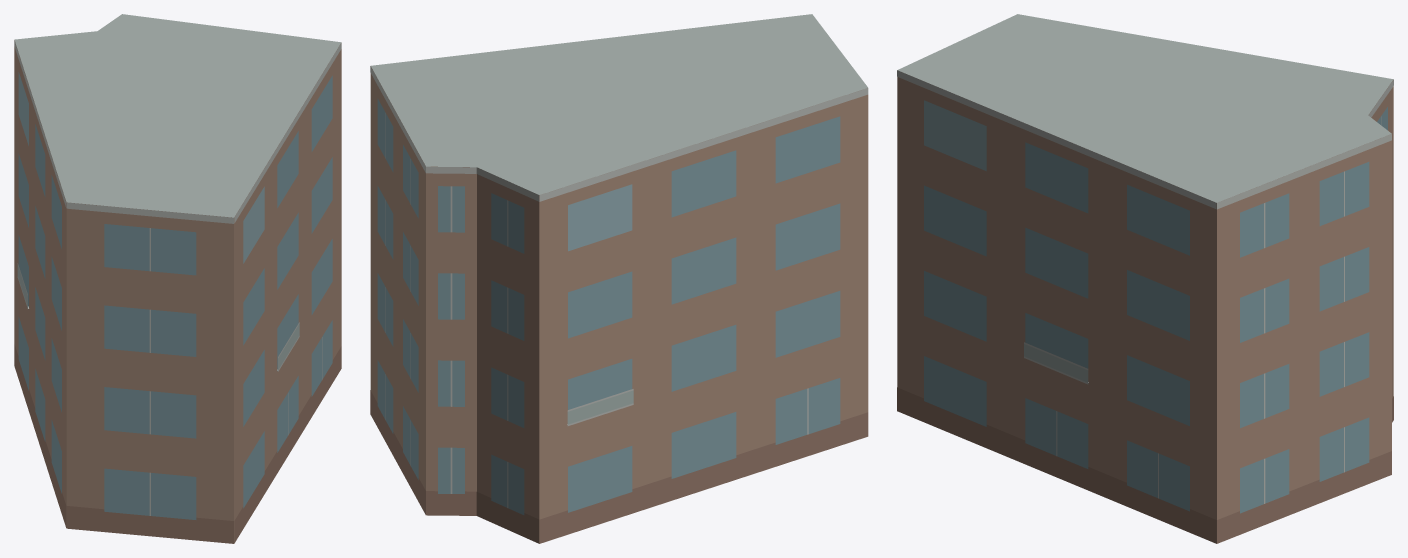
The model's file is survey-upis-32770369.glb.
3 renders of one model, left to right at view 1: azimuth 30°, elevation 25°; view 2: azimuth 150°, elevation 25°; view 3: azimuth 270°, elevation 25°, orthographic. The views are drawn at different scales.
Parts seen in each view (by area): view 1: survey-upis-32770369.tmp; view 2: survey-upis-32770369.tmp; view 3: survey-upis-32770369.tmp.
Boxes of the visible parts, x1,y1,x2,y2 form: survey-upis-32770369.tmp: (14,14,341,543); survey-upis-32770369.tmp: (370,14,868,543); survey-upis-32770369.tmp: (897,14,1393,543).
Bounding box in the file's own units: 14.98 × 12.6 × 16.64.
